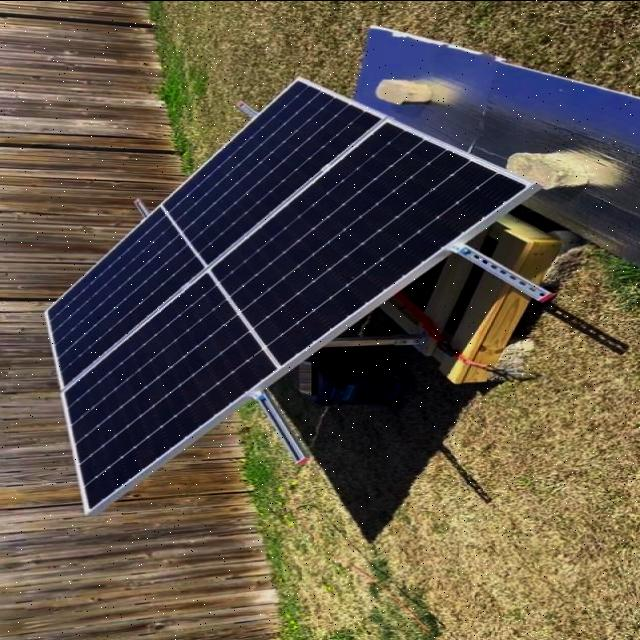Normal Solar Panel: (48, 76, 530, 508)
